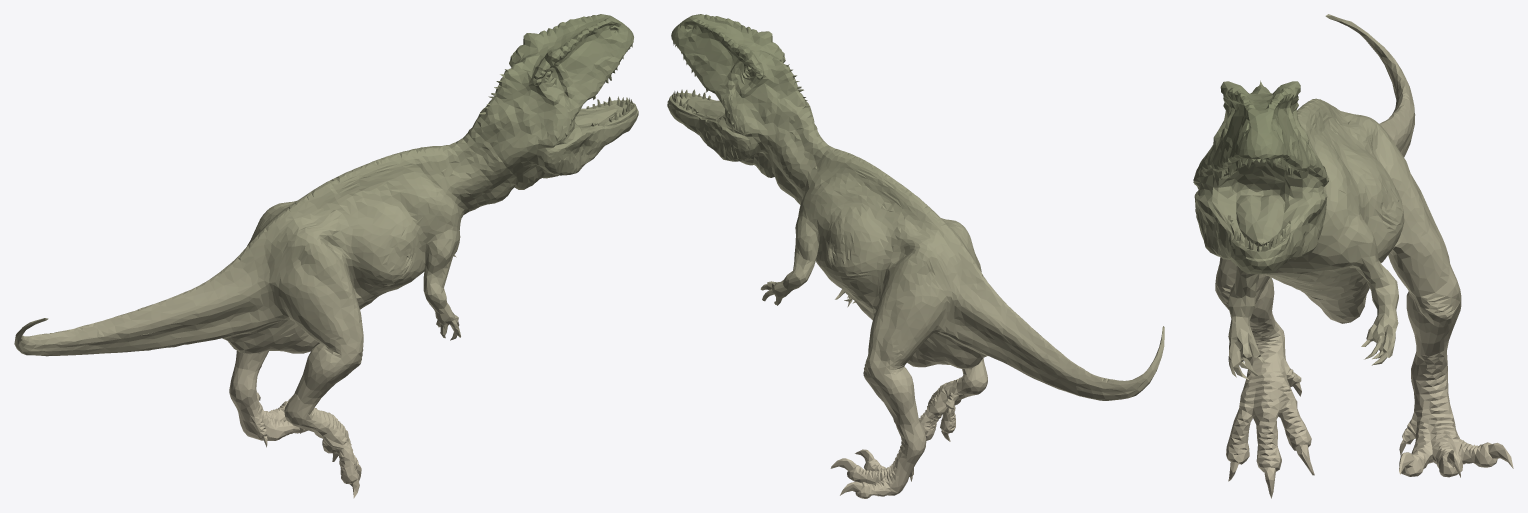
Rendered from giganotosaurus.glb.
The picture shows the model from 3 angles, left to right: view 1: azimuth 30°, elevation 25°; view 2: azimuth 150°, elevation 25°; view 3: azimuth 270°, elevation 25°; orthographic projection. The views are drawn at different scales.
Visible parts, largest first — view 1: world; view 2: world; view 3: world.
Part boxes in pixels (box(x1,y1,x2,y2)): world: box(14, 14, 638, 498); world: box(667, 14, 1164, 498); world: box(1193, 14, 1513, 498).
Bounding box in the file's own units: 10 × 6.84 × 3.62.
